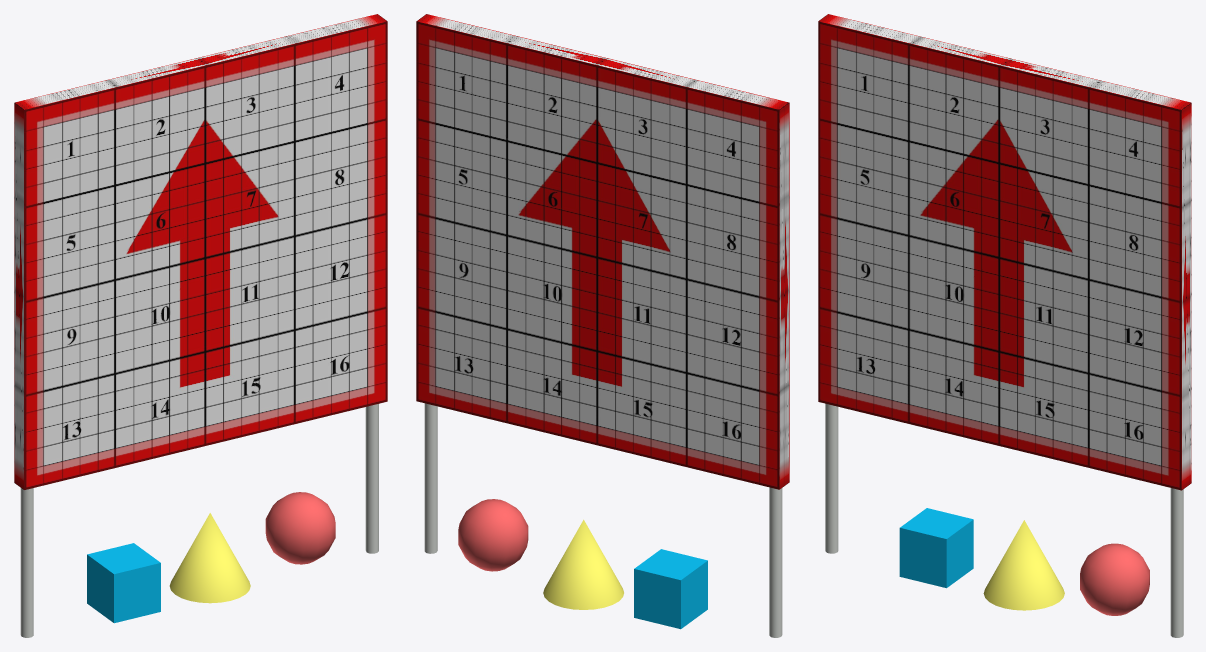
Rendered from asset.gltf.
3 views of the same model, side by side, from view 1: azimuth 30°, elevation 25°; view 2: azimuth 150°, elevation 25°; view 3: azimuth 330°, elevation 25° (orthographic).
Visible parts, largest first — view 1: Box002, Box001, Cone001, Sphere001, Cylinder002, Cylinder001; view 2: Box002, Box001, Cone001, Sphere001, Cylinder002, Cylinder001; view 3: Box002, Box001, Cone001, Sphere001, Cylinder001, Cylinder002.
Boxes of the visible parts, x1,y1,x2,y2 form: Box002: [14, 14, 387, 489]; Box001: [87, 543, 160, 623]; Cone001: [169, 513, 250, 603]; Sphere001: [265, 492, 335, 564]; Cylinder002: [20, 488, 33, 637]; Cylinder001: [365, 404, 378, 553]; Box002: [416, 14, 789, 489]; Box001: [634, 549, 707, 629]; Cone001: [543, 519, 623, 609]; Sphere001: [458, 499, 528, 571]; Cylinder002: [769, 487, 782, 637]; Cylinder001: [424, 403, 437, 553]; Box002: [818, 14, 1191, 490]; Box001: [899, 508, 973, 588]; Cone001: [983, 520, 1064, 610]; Sphere001: [1080, 543, 1149, 615]; Cylinder001: [1170, 488, 1183, 637]; Cylinder002: [825, 403, 838, 553].
Size of the model in its own units: 472 by 661 by 91.44.
6 materials, 1 textured.
